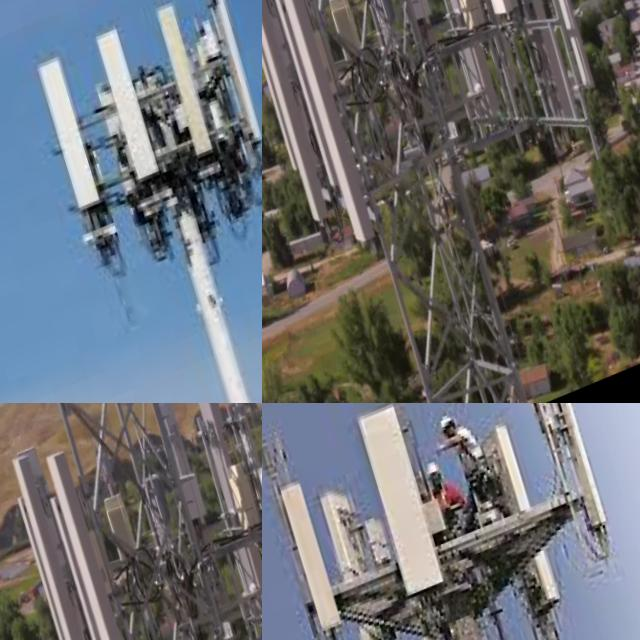GSM Antenna: (262, 0, 384, 261), (32, 420, 159, 640), (0, 422, 123, 640), (343, 403, 452, 610), (471, 409, 572, 628), (262, 0, 348, 241), (410, 0, 532, 168), (305, 458, 414, 640), (185, 403, 262, 640), (471, 0, 589, 146), (84, 19, 172, 209), (28, 48, 114, 233), (266, 468, 355, 640), (145, 1, 223, 184), (4, 474, 78, 640), (192, 0, 262, 167), (149, 403, 224, 558), (545, 403, 620, 550), (526, 0, 602, 102), (262, 0, 303, 185), (374, 0, 449, 58), (98, 480, 146, 569), (322, 0, 370, 69)
